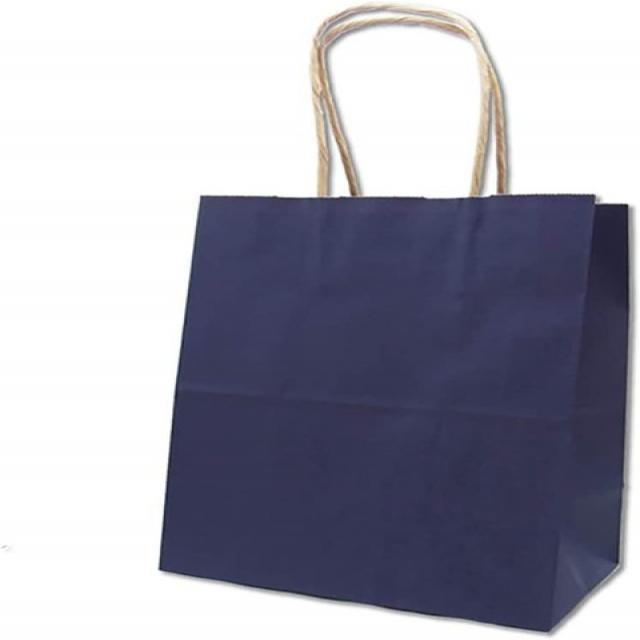paper bag: (162, 1, 627, 636)
